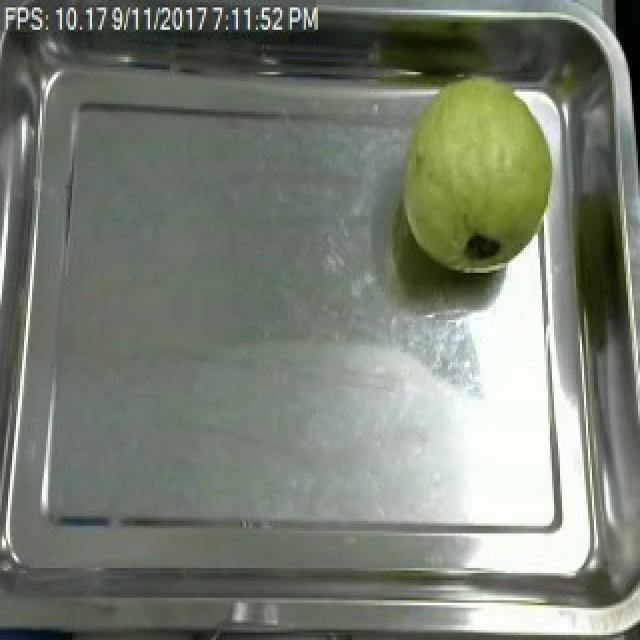Fruit: (390, 67, 574, 285)
